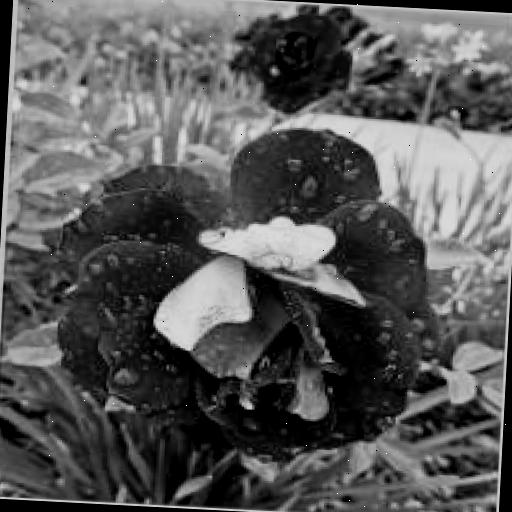rose: (48, 113, 450, 468), (224, 8, 358, 112)
